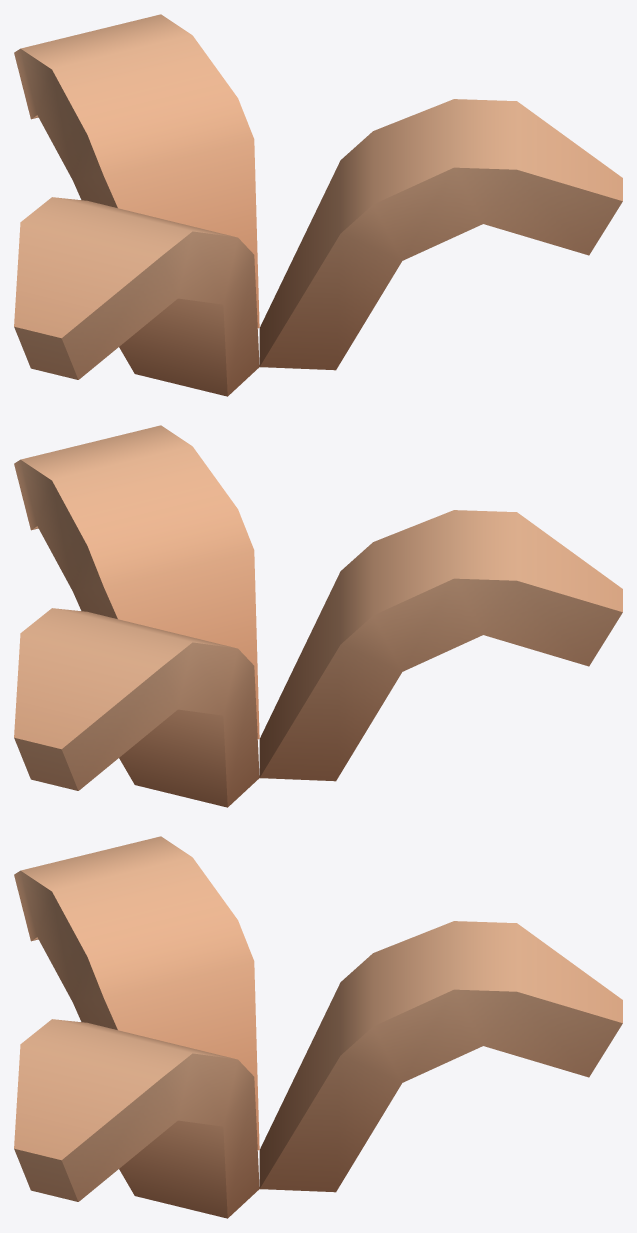
Rendered from plant.glb.
3 renders of one model, top to bottom at view 1: azimuth 30°, elevation 25°; view 2: azimuth 150°, elevation 25°; view 3: azimuth 270°, elevation 25°, orthographic.
Visible parts, largest first — view 1: plant; view 2: plant; view 3: plant.
Part boxes in pixels (x1=…): plant: x1=14, y1=14, x2=622, y2=396; plant: x1=14, y1=425, x2=622, y2=807; plant: x1=14, y1=836, x2=622, y2=1218.
Size of the model in its own units: 0.5112 by 0.1718 by 0.4427.
